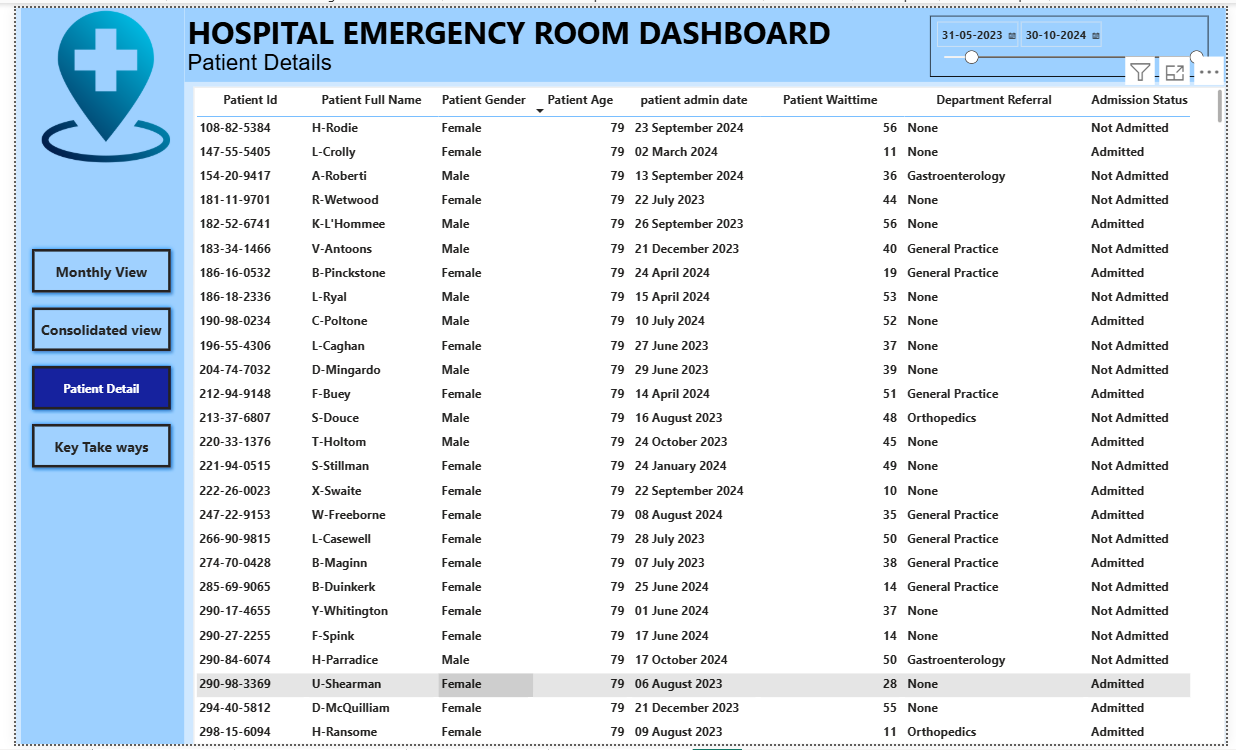

This screenshot's page, from the dashboard's own definition file:
{"tool":"powerbi","page":{"name":"Patient Detail","canvas":[2300,1400],"ordinal":2},"visuals":[{"type":"shape","box":[9.9,0,310.7,1400.5],"z":0},{"type":"shape","box":[320.5,0,1980,140.5],"z":1000},{"type":"textbox","box":[320.5,0,1245.2,115.9],"z":2000},{"type":"textbox","box":[321,73.7,344.8,66.6],"z":3000},{"type":"slicer","fields":{"Values":["Date Table.Date"]},"box":[1738.1,14.3,530.2,116.5],"z":4000},{"type":"image","box":[21.4,0,299.6,299.6],"z":5000},{"type":"tableEx","fields":{"Values":["Hospital ER_Data.Patient Id","Hospital ER_Data.Patient Full Name","Hospital ER_Data.Patient Gender","Sum(Hospital ER_Data.Patient Age)","Hospital ER_Data.patient admin date","Sum(Hospital ER_Data.Patient Waittime)","Hospital ER_Data.Department Referral","Hospital ER_Data.Admission Status"]},"box":[337.6,149.8,1961.6,1250.7],"z":6000},{"type":"pageNavigator","box":[21.4,449.4,282.9,435.1],"z":7000}]}

Visuals, with their boxes on the page's 2300x1400 design canvas (x1, y1, x2, y2). These are canvas units, not pixel positions in the 1236x750 screenshot, which may show the page scaled, cropped or inside an application window:
shape: (x1=10, y1=0, x2=321, y2=1400)
shape: (x1=320, y1=0, x2=2300, y2=140)
textbox: (x1=320, y1=0, x2=1566, y2=116)
textbox: (x1=321, y1=74, x2=666, y2=140)
slicer - Date Table.Date: (x1=1738, y1=14, x2=2268, y2=131)
image: (x1=21, y1=0, x2=321, y2=300)
tableEx - Hospital ER_Data.Patient Id x Hospital ER_Data.Patient Full Name: (x1=338, y1=150, x2=2299, y2=1400)
pageNavigator: (x1=21, y1=449, x2=304, y2=884)
